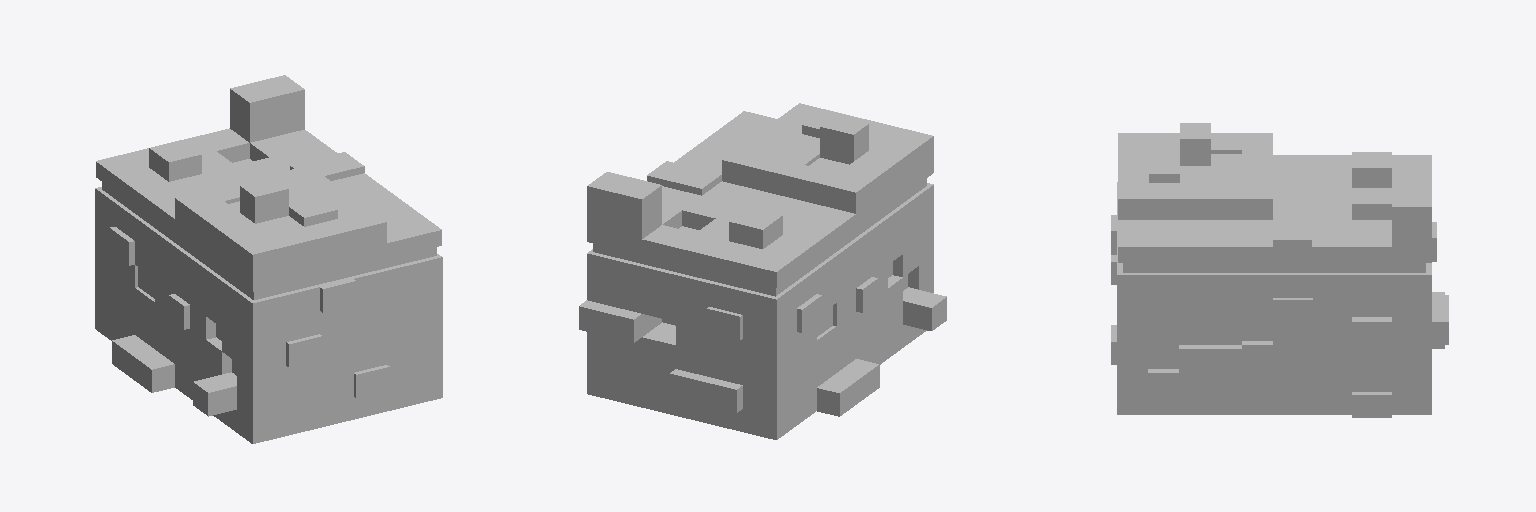
The model's file is box_real_03.obj.
3 renders of one model, left to right at view 1: azimuth 30°, elevation 25°; view 2: azimuth 150°, elevation 25°; view 3: azimuth 270°, elevation 25°, orthographic.
Parts seen in each view (by area): view 1: Cube_Cube; view 2: Cube_Cube; view 3: Cube_Cube.
Part boxes in pixels (x1,y1,x2,y2): Cube_Cube: (95,75,442,443); Cube_Cube: (579,103,946,439); Cube_Cube: (1111,123,1448,417).
Bounding box in the file's own units: 337 × 307 × 434.